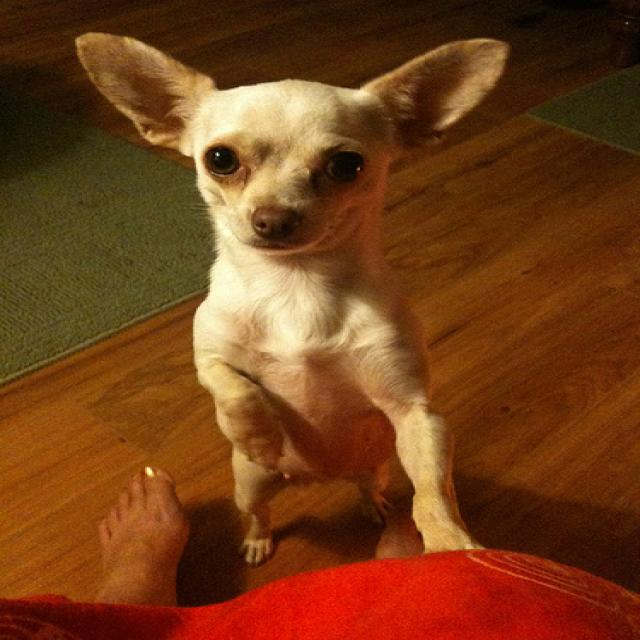dog-chihuahua: (58, 24, 517, 580)
